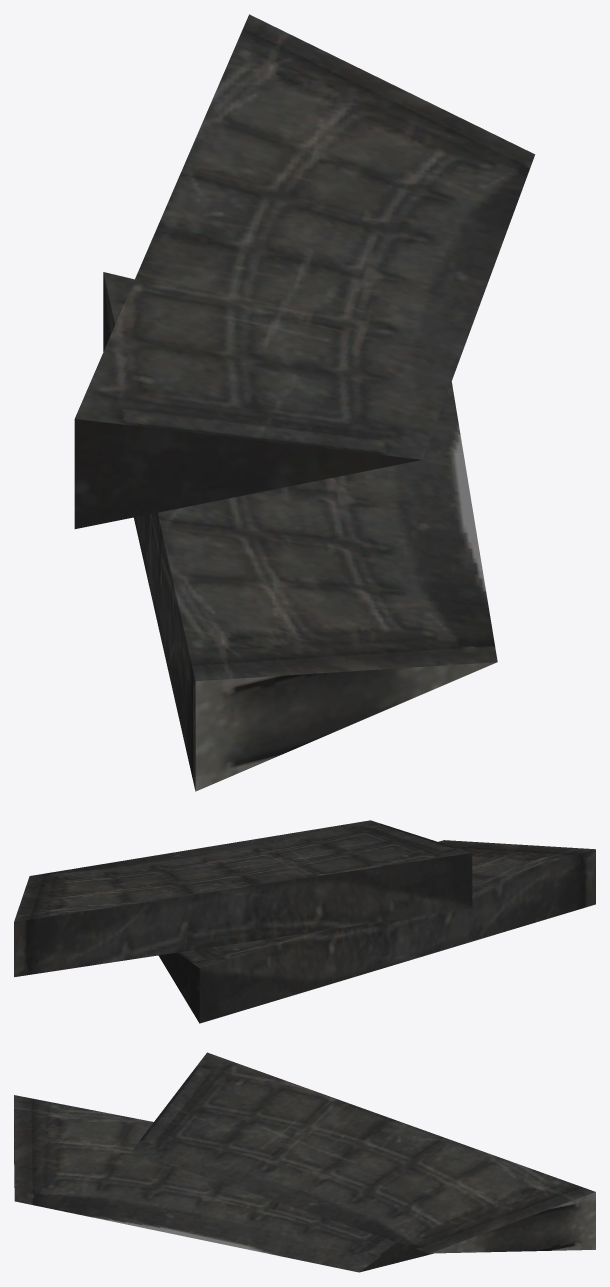
The model's file is t6_attach_fastmag_type95_world_LOD2.obj.
3 views of the same model, one above another, from view 1: azimuth 30°, elevation 25°; view 2: azimuth 150°, elevation 25°; view 3: azimuth 270°, elevation 25° (orthographic). The views are drawn at different scales.
Parts seen in each view (by area): view 1: mtl_t6_wpn_ar_type95; view 2: mtl_t6_wpn_ar_type95; view 3: mtl_t6_wpn_ar_type95.
Boxes of the visible parts, bbox=[...] form: mtl_t6_wpn_ar_type95: bbox=[74, 14, 535, 791]; mtl_t6_wpn_ar_type95: bbox=[14, 820, 595, 1023]; mtl_t6_wpn_ar_type95: bbox=[14, 1052, 595, 1272].
Bounding box in the file's own units: 19.75 × 5.7 × 25.79.
